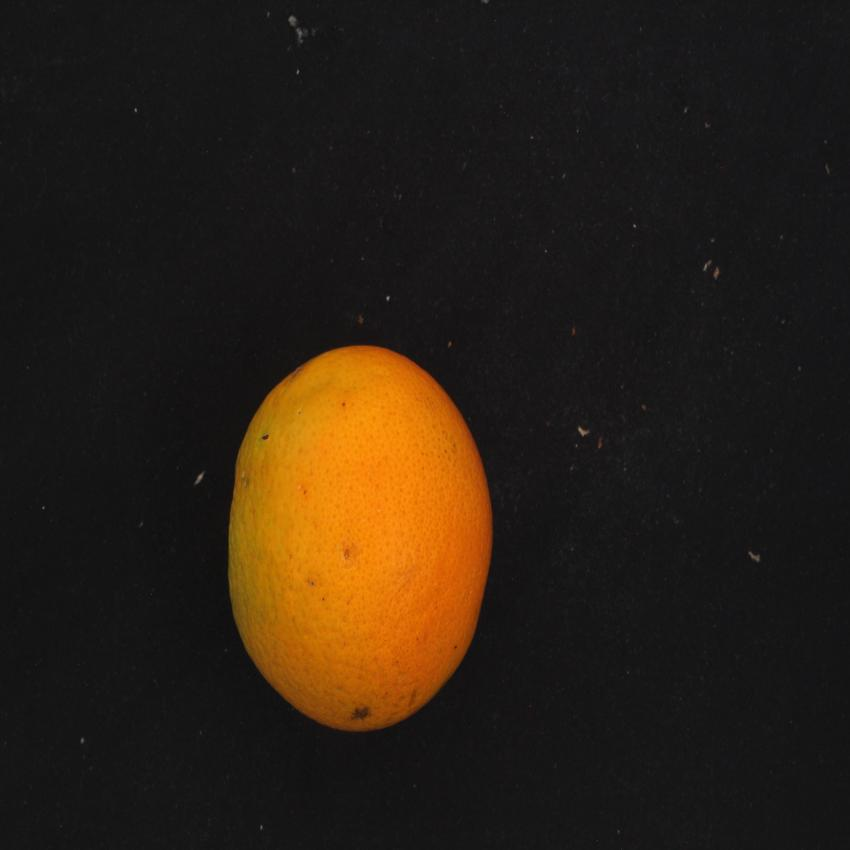Buen estado: (217, 331, 503, 743)
